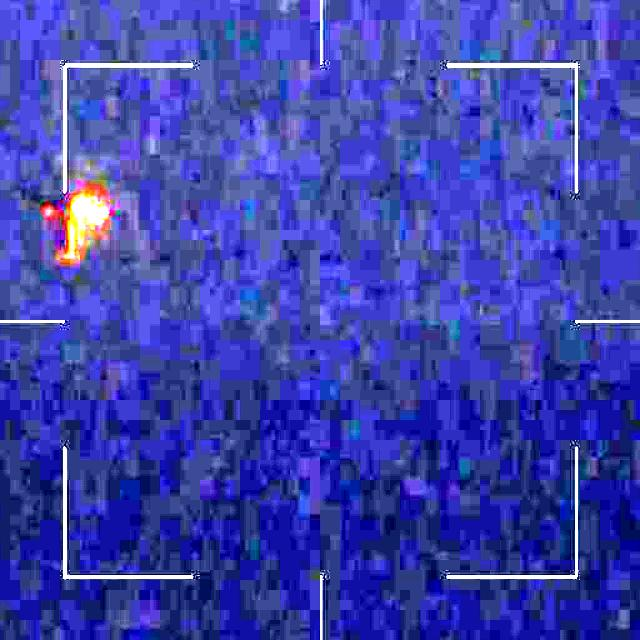bird: (35, 191, 111, 262)
